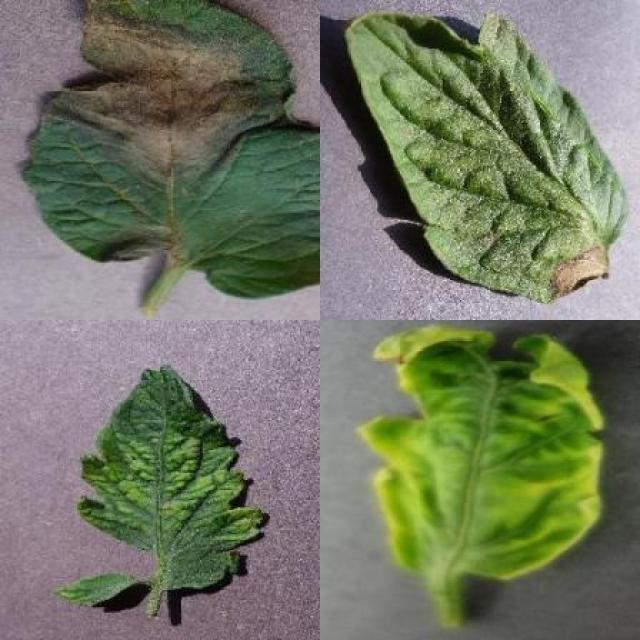Late Blight: (23, 0, 320, 300), (345, 12, 632, 307)
Mosaic Virus: (72, 364, 262, 592)
Yellow Leaf Curl Virus: (360, 324, 606, 584)
